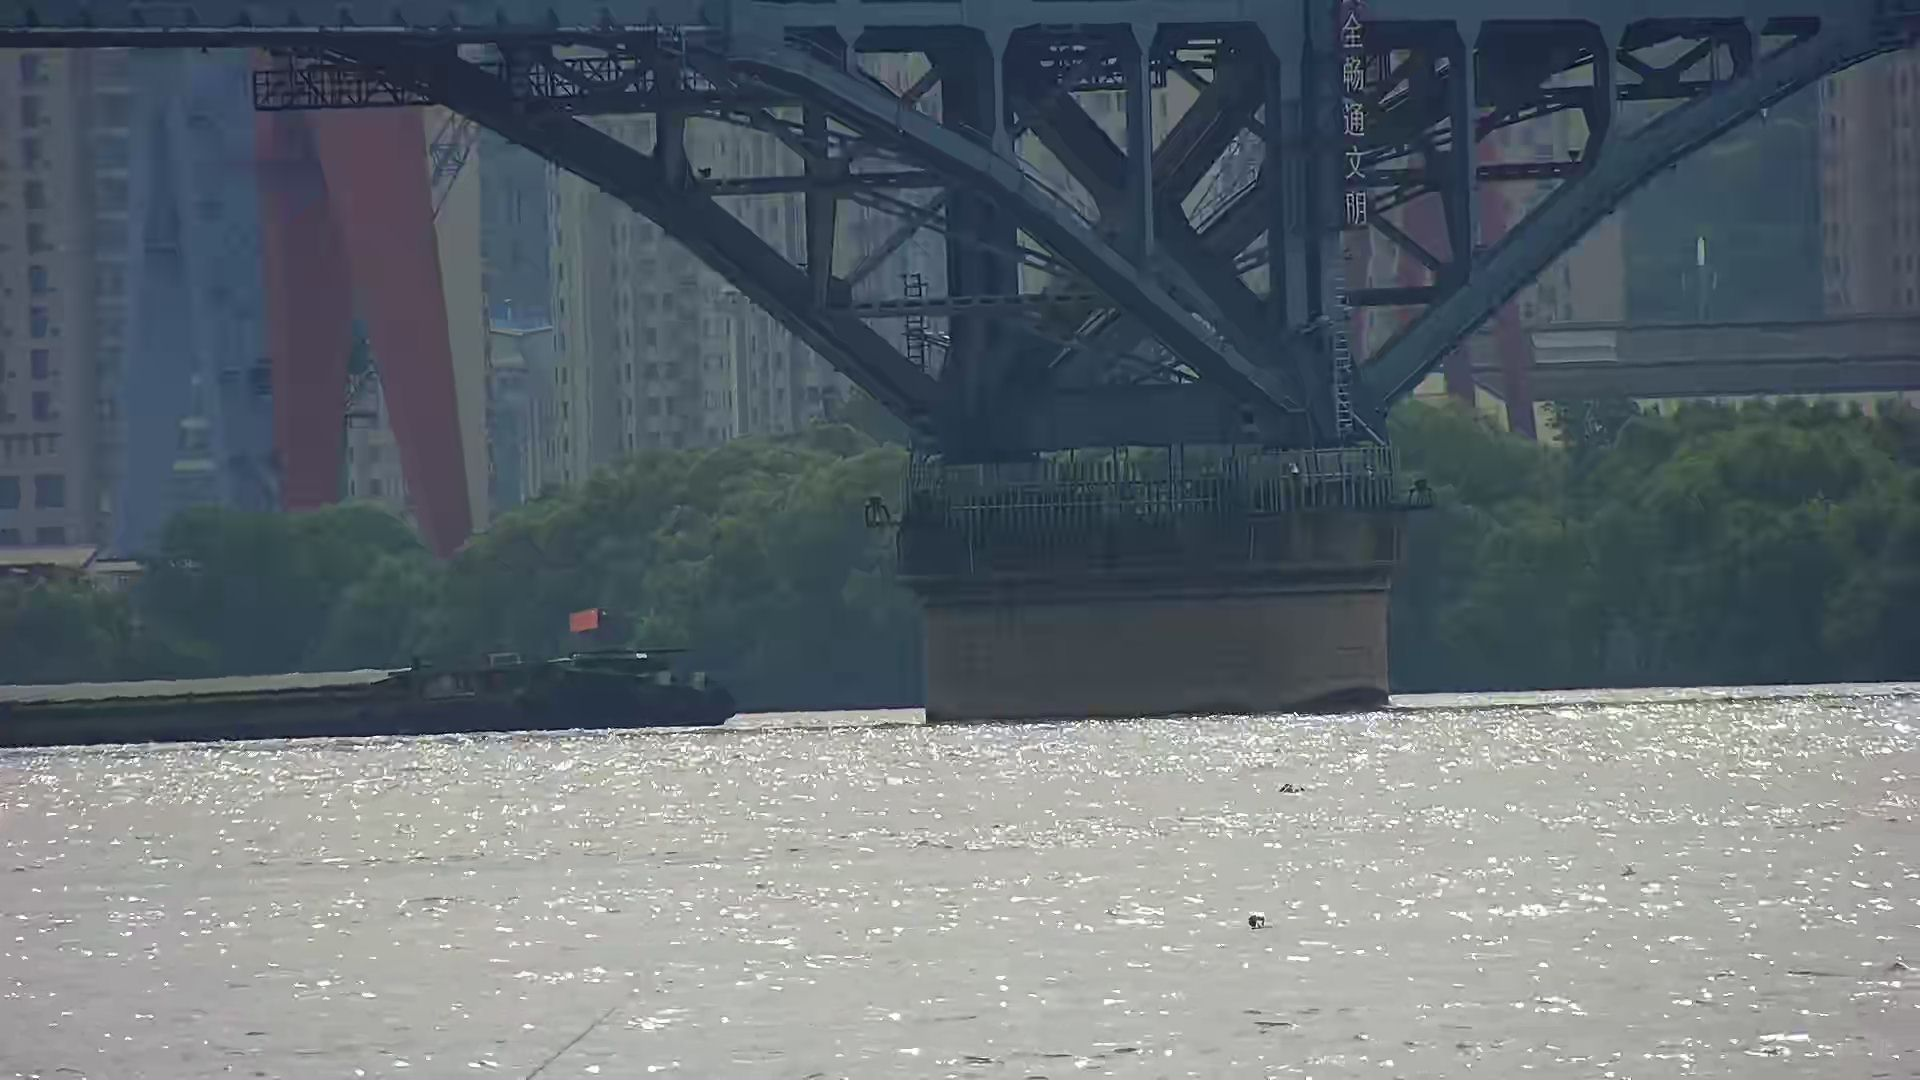bridge: (1, 3, 1920, 721)
ship: (1, 607, 742, 744)
